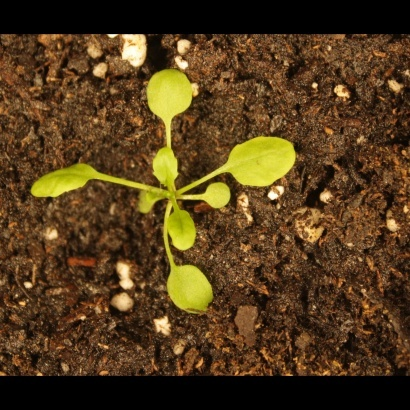leaf: (227, 135, 306, 190), (137, 62, 196, 121), (160, 264, 222, 318), (27, 163, 102, 206), (162, 199, 203, 254), (146, 138, 182, 195), (200, 179, 232, 213), (129, 183, 162, 214)
